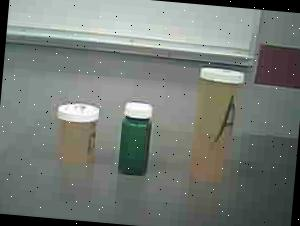Bottle A: (184, 61, 250, 194)
Bottle B: (51, 96, 106, 170)
Bottle C: (110, 94, 160, 184)
